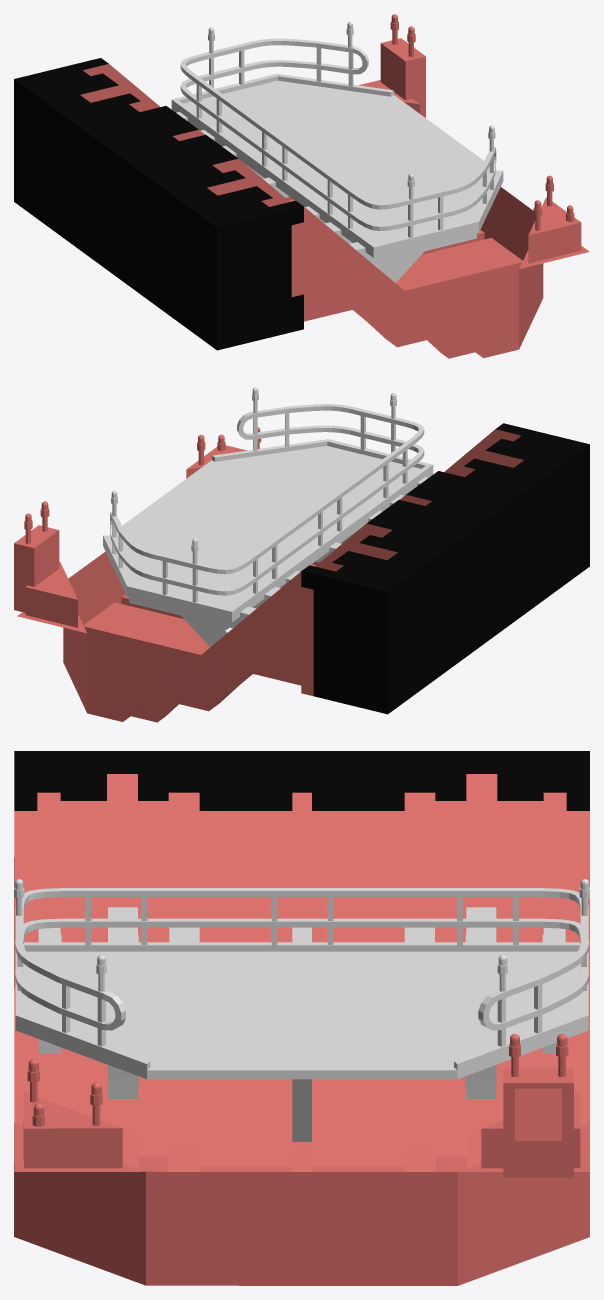
File: AscenseurIncliné.fbx
The picture shows the model from 3 angles, top to bottom: view 1: azimuth 30°, elevation 25°; view 2: azimuth 150°, elevation 25°; view 3: azimuth 270°, elevation 25°; orthographic projection. The views are drawn at different scales.
Parts seen in each view (by area): view 1: Cube.325, Cube.327; view 2: Cube.325, Cube.327; view 3: Cube.325, Cube.327.
Boxes of the visible parts, x1=… form: Cube.325: x1=14, y1=14, x2=589, y2=358; Cube.327: x1=171, y1=22, x2=503, y2=282; Cube.325: x1=14, y1=423, x2=589, y2=722; Cube.327: x1=103, y1=387, x2=433, y2=647; Cube.325: x1=14, y1=751, x2=589, y2=1285; Cube.327: x1=14, y1=879, x2=589, y2=1141.
Size of the model in its own units: 1300 by 1200 by 653.
